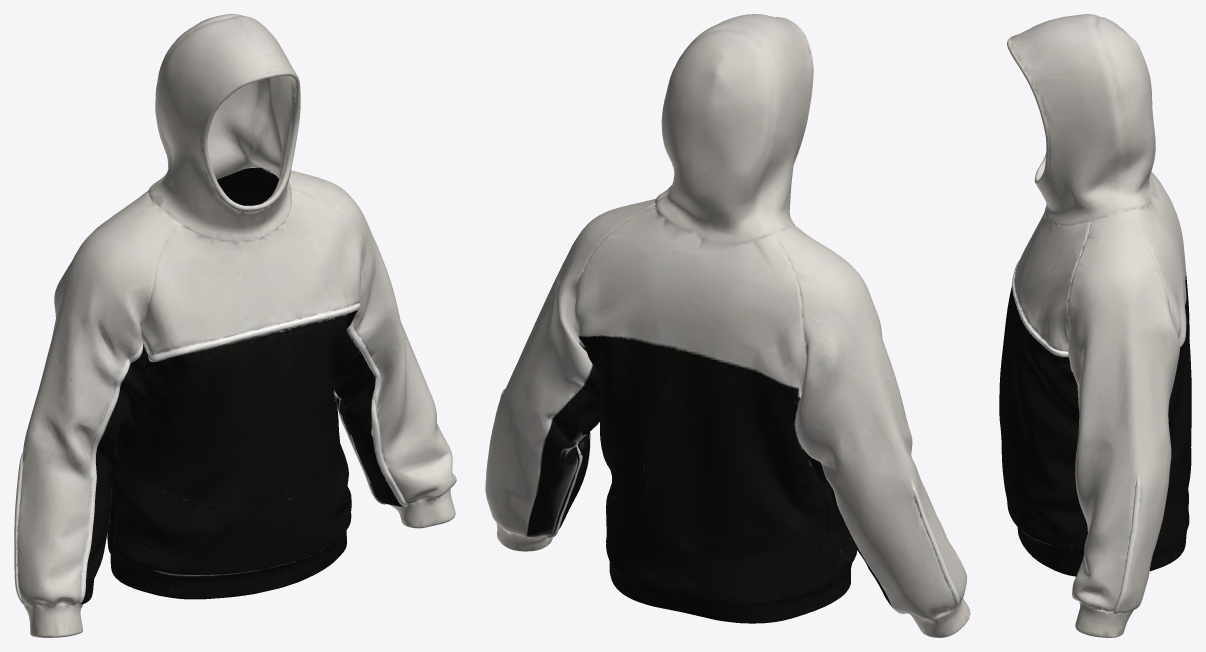
The model's file is hoodie-on.glb.
The picture shows the model from 3 angles, left to right: view 1: azimuth 30°, elevation 25°; view 2: azimuth 150°, elevation 25°; view 3: azimuth 270°, elevation 25°; orthographic projection. The views are drawn at different scales.
Bounding box in the file's own units: 1.58 × 1.9 × 0.6321.
1 material, 1 textured.
